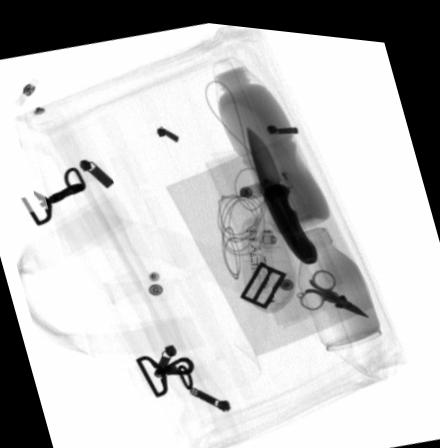Knife: (246, 119, 318, 256)
Scissors: (300, 261, 370, 307)
